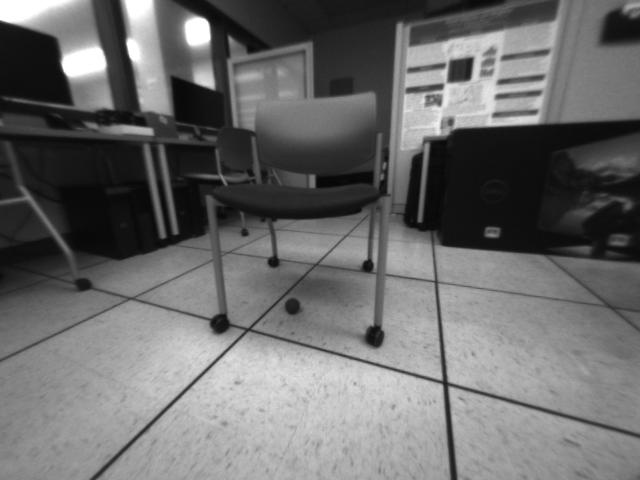dogtoy: (280, 293, 304, 317)
